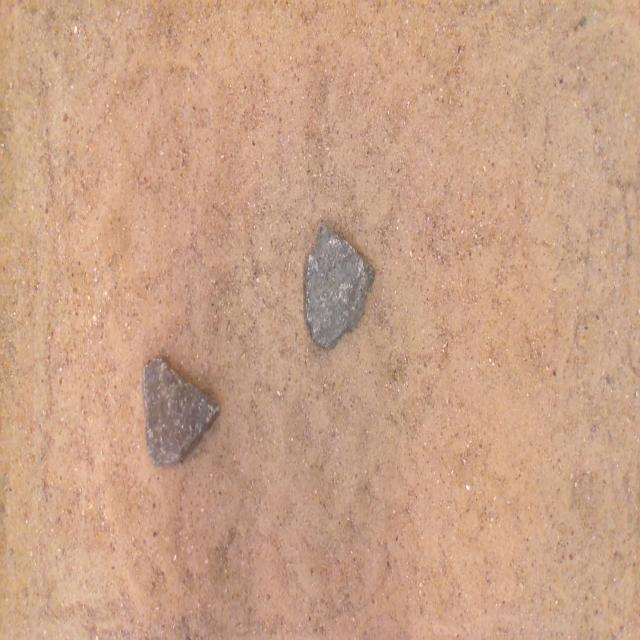rock: (305, 226, 374, 347), (142, 357, 219, 465)
